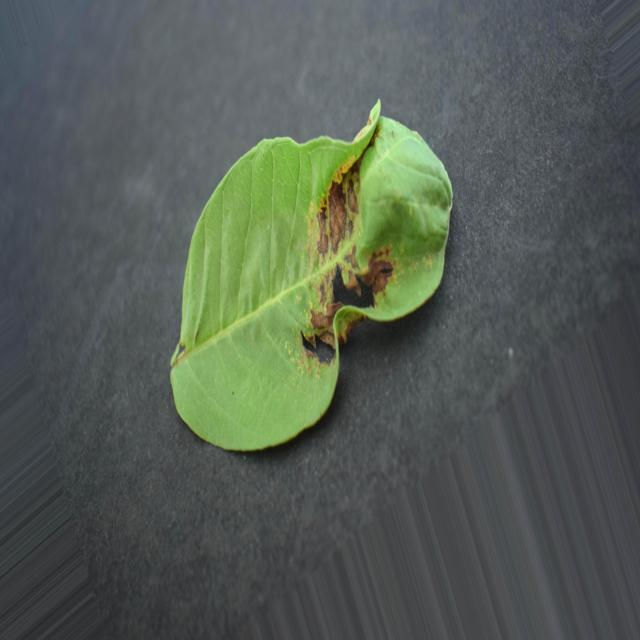Canker: (171, 101, 452, 450)
